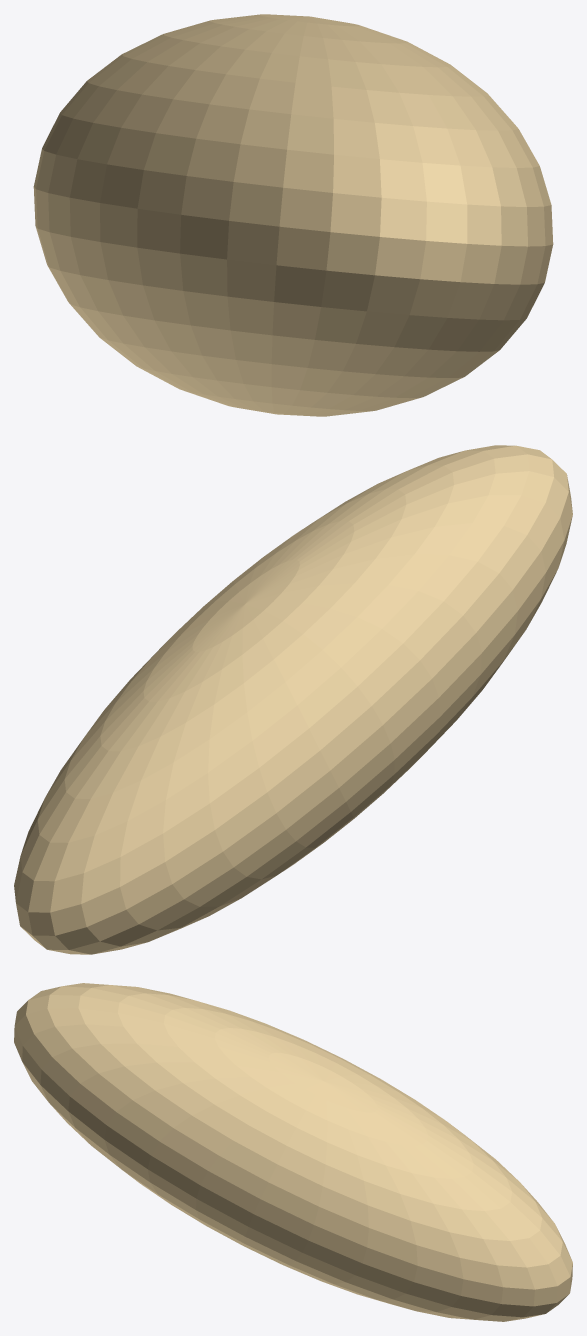
File: sphere.038_lev3.glb
3 renders of one model, top to bottom at view 1: azimuth 30°, elevation 25°; view 2: azimuth 150°, elevation 25°; view 3: azimuth 270°, elevation 25°, orthographic. The views are drawn at different scales.
Visible parts, largest first — view 1: sphere.038_lev3; view 2: sphere.038_lev3; view 3: sphere.038_lev3.
Boxes of the visible parts, <box> form: sphere.038_lev3: <box>33,14,553,416</box>; sphere.038_lev3: <box>14,445,572,954</box>; sphere.038_lev3: <box>14,983,572,1321</box>.
Bounding box in the file's own units: 1.05 × 1.14 × 2.15.
